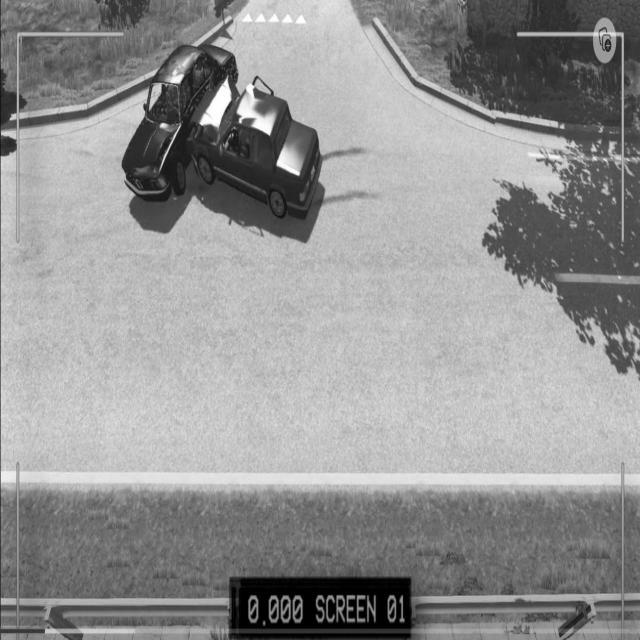accident: (122, 38, 324, 226)
